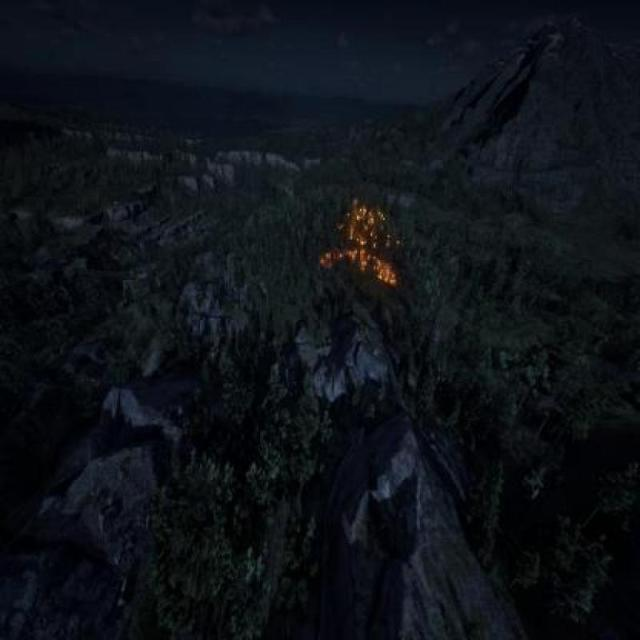Fire: (320, 196, 402, 287)
